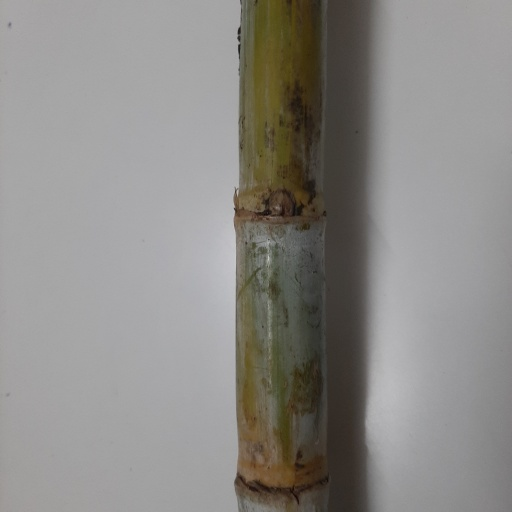Bud: (267, 188, 294, 219)
